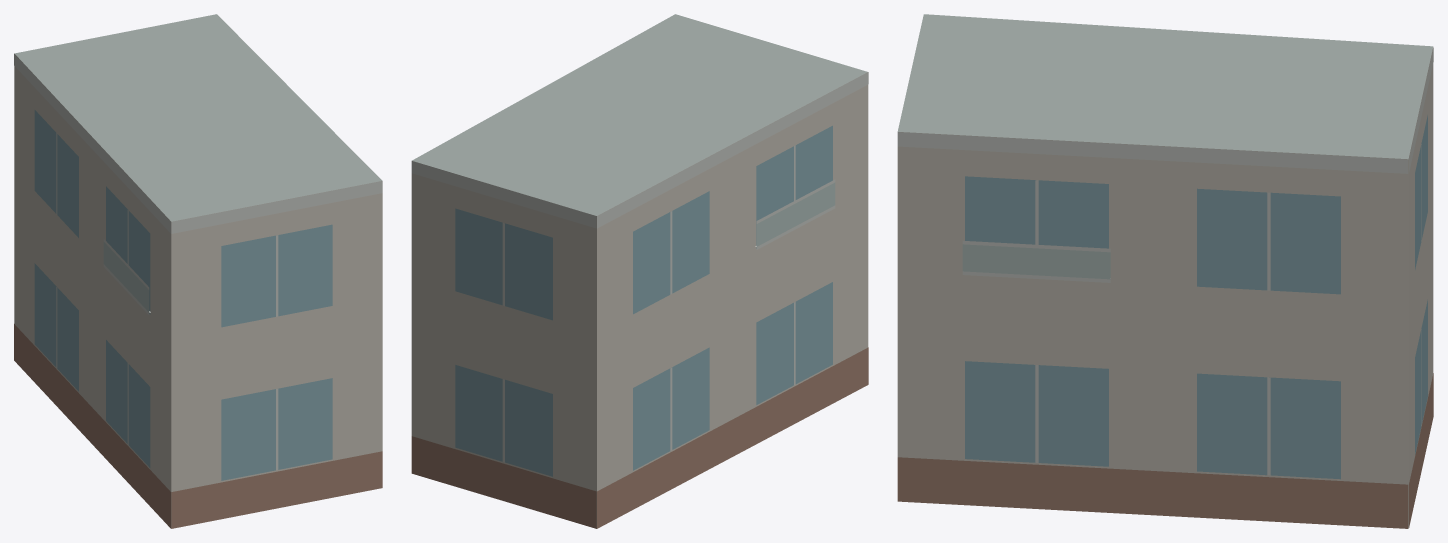
Rendered from survey-upis-32916368.glb.
The picture shows the model from 3 angles, left to right: view 1: azimuth 30°, elevation 25°; view 2: azimuth 150°, elevation 25°; view 3: azimuth 270°, elevation 25°; orthographic projection. The views are drawn at different scales.
Visible parts, largest first — view 1: survey-upis-32916368.tmp; view 2: survey-upis-32916368.tmp; view 3: survey-upis-32916368.tmp.
Part boxes in pixels (<box>): survey-upis-32916368.tmp: <box>14,14,382,528</box>; survey-upis-32916368.tmp: <box>411,14,868,528</box>; survey-upis-32916368.tmp: <box>897,14,1433,528</box>.
Bounding box in the file's own units: 5.15 × 6.1 × 8.03.
